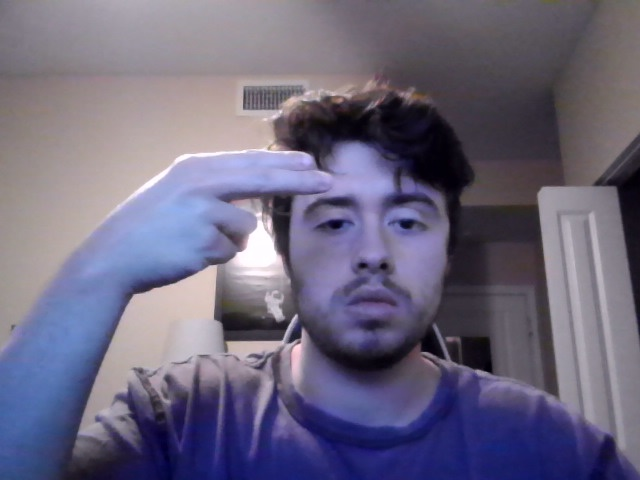h: (58, 147, 336, 297)
